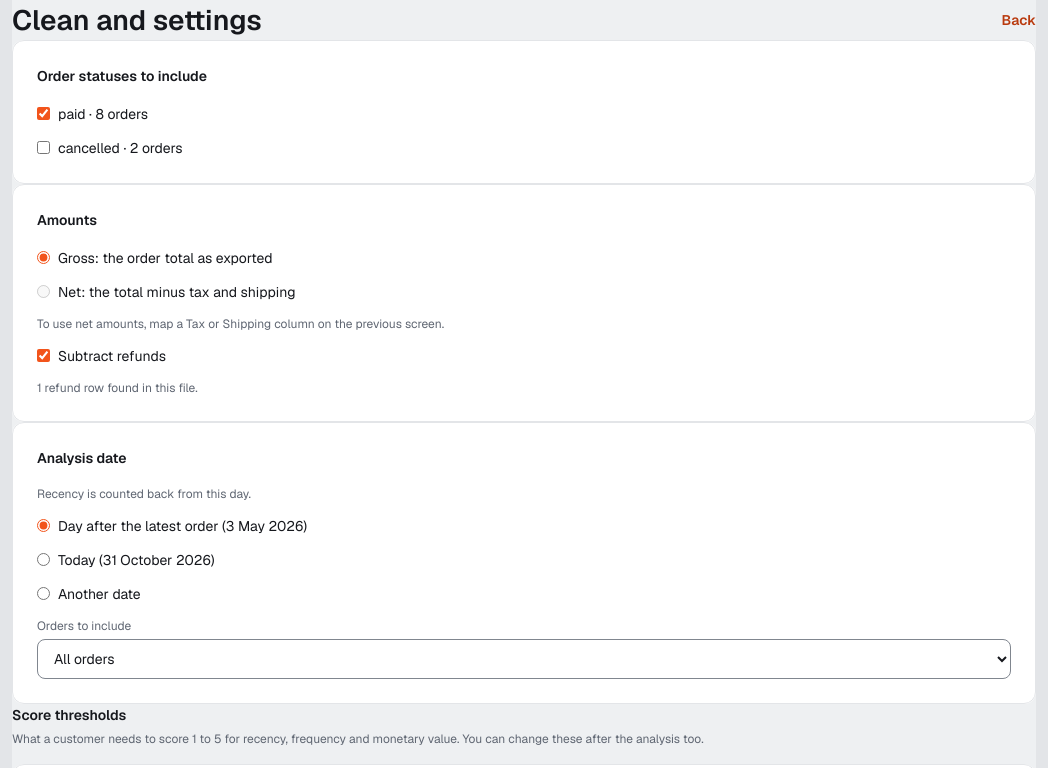
Scenario: CleanScreen (story 3) › counts orders outside a lookback window
The image size is (1048, 768).
Select "Last 12 months" in the dropdown labelled "Orders to include". click: (524, 659)
box: [37,639,1011,679]
(page scrolled)
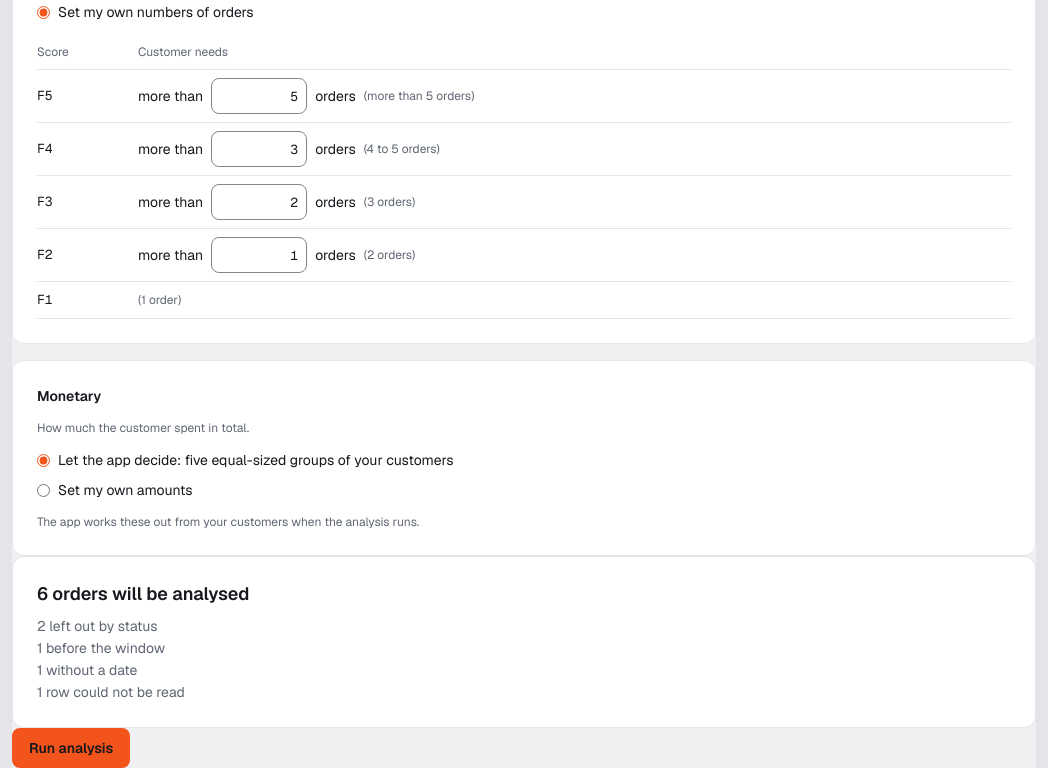
Expected: the element with test id "exclusion-counts" shows "1 before the window", [12,556,1036,728]
Expected: the element with test id "exclusion-counts" shows "6 orders will be analysed", [12,556,1036,728]
